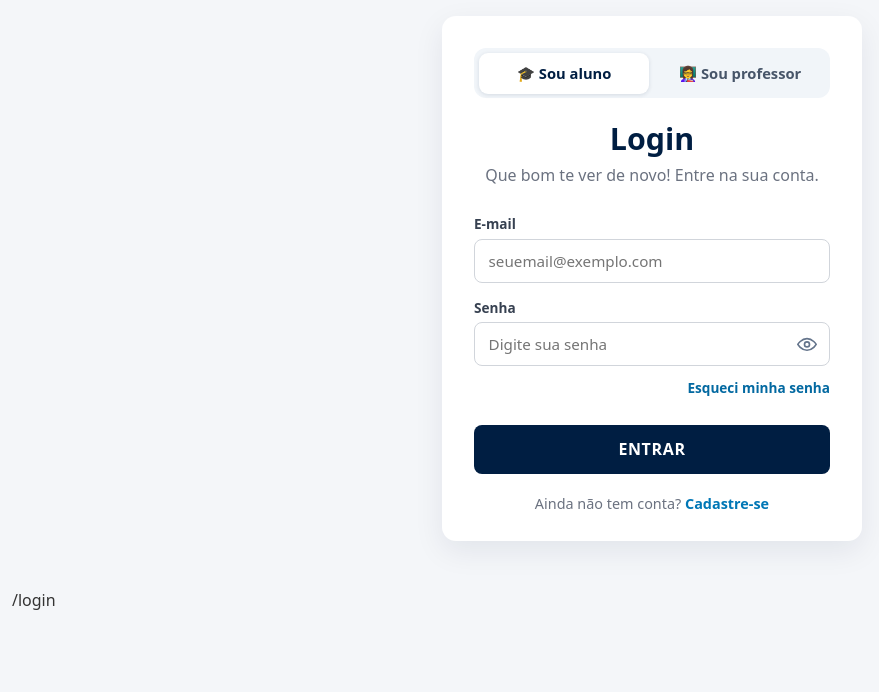
Test: servidor fora do ar mostra mensagem genérica
Type "maria@teste.com" into the field labelled "E-mail" at (652, 261), box [474,239,830,283]
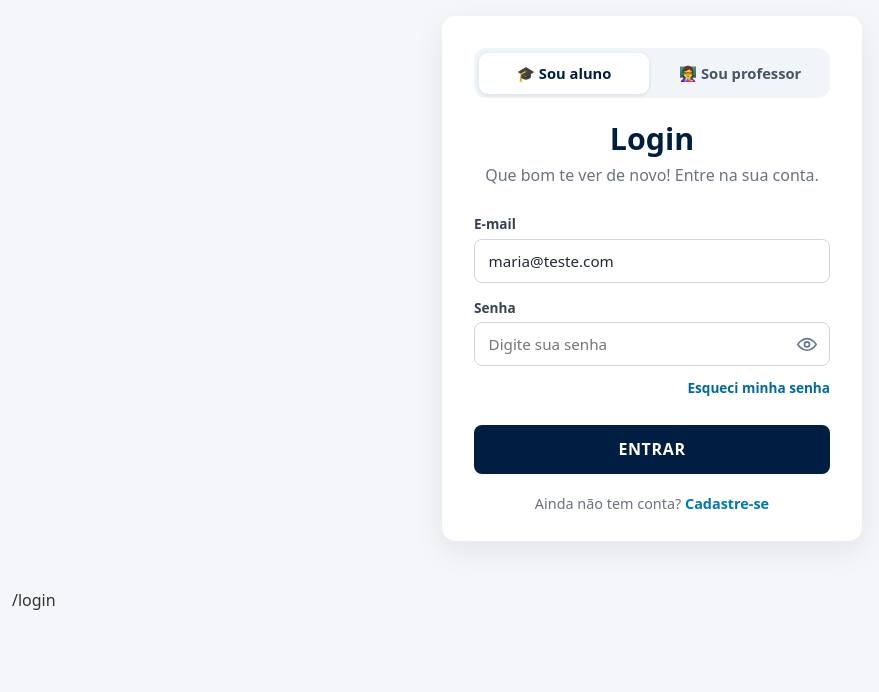
Type "senha123" into the password field labelled "Senha" at (652, 344), box [474,322,830,366]
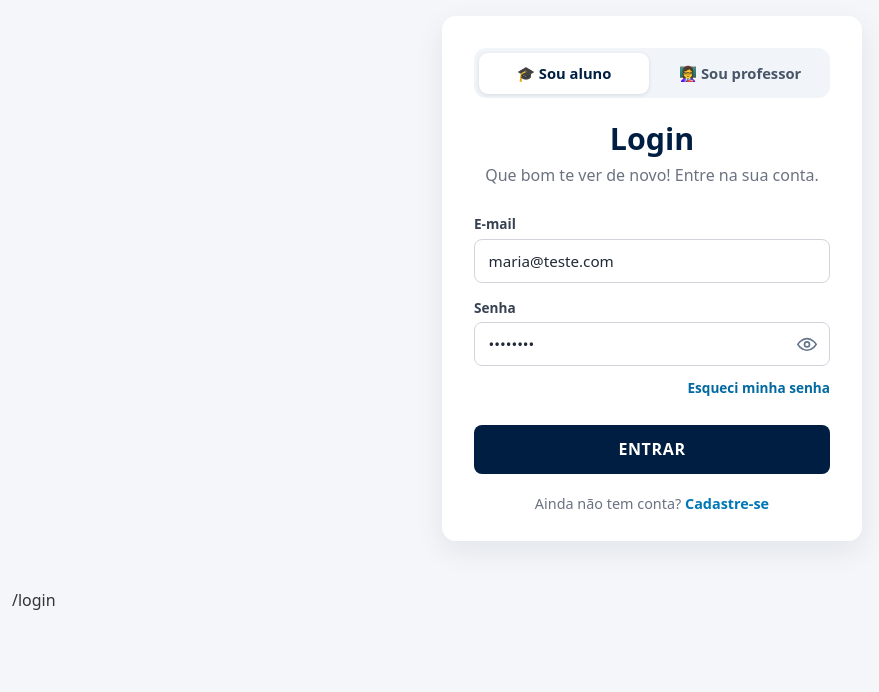
Click the button "ENTRAR" at (652, 449), box [474,425,830,474]
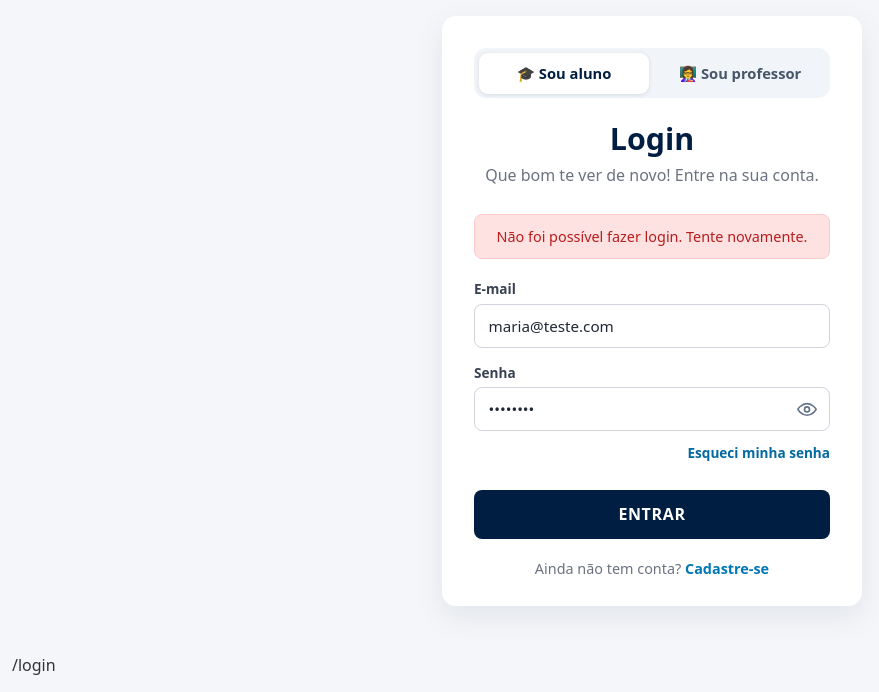
Expected: the button "ENTRAR" is enabled, [474,490,830,539]
Result: the text "Não foi possível fazer login. Tente novamente." is shown at [474,214,830,259]
